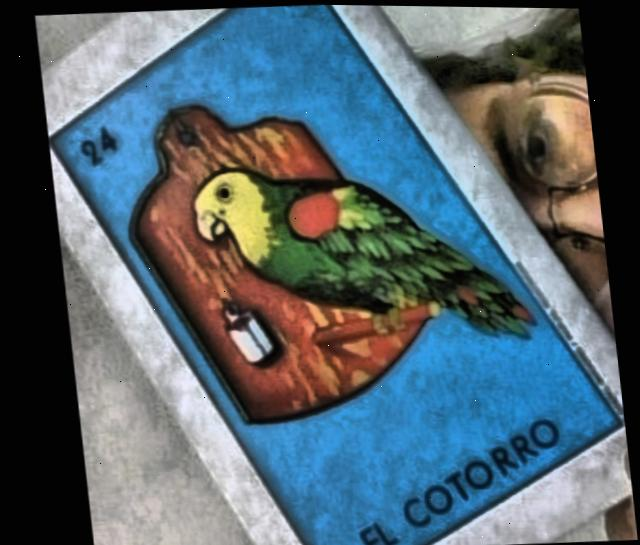El Cotorro: (47, 4, 612, 545)
